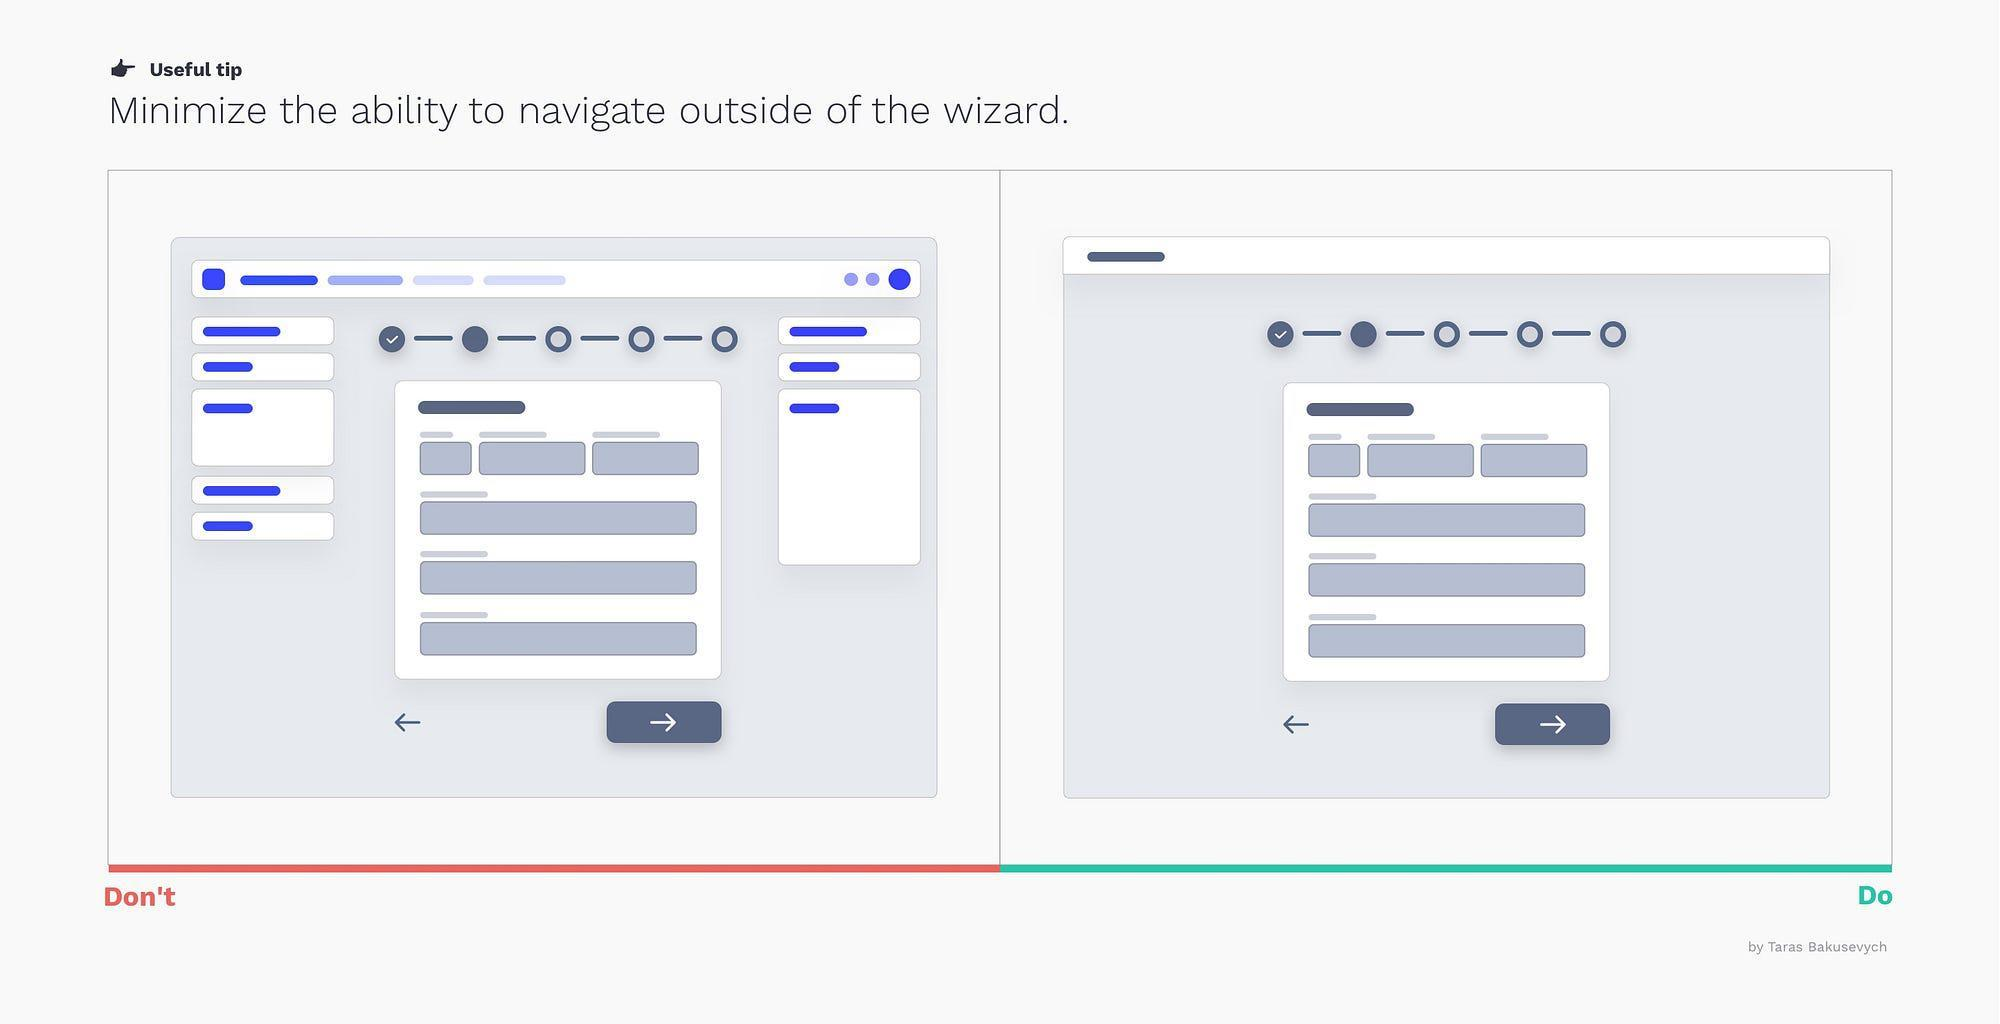button: (607, 701, 722, 744), (1497, 704, 1612, 747)
checkbox: (1598, 320, 1631, 353), (460, 327, 495, 357), (1265, 320, 1298, 351), (544, 323, 574, 357), (1432, 321, 1462, 351), (628, 327, 659, 355), (710, 324, 742, 353), (379, 327, 409, 355), (1350, 323, 1379, 351), (1517, 321, 1547, 347)
icon: (394, 711, 424, 737), (1282, 714, 1312, 739)
input: (420, 622, 698, 657), (420, 502, 696, 537), (1309, 504, 1586, 538), (1309, 564, 1586, 598), (1309, 626, 1586, 658), (422, 562, 697, 594), (593, 443, 700, 477), (1368, 445, 1474, 478), (480, 444, 586, 475), (1482, 444, 1587, 475), (1308, 444, 1362, 478), (420, 443, 473, 475)
